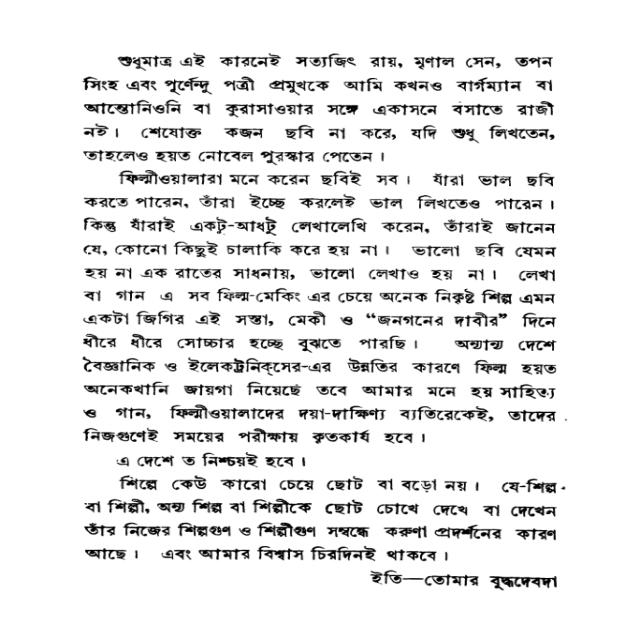paragraph: (79, 165, 562, 447), (71, 47, 558, 162), (73, 474, 559, 561), (98, 452, 311, 468)
text: (356, 568, 565, 590)
